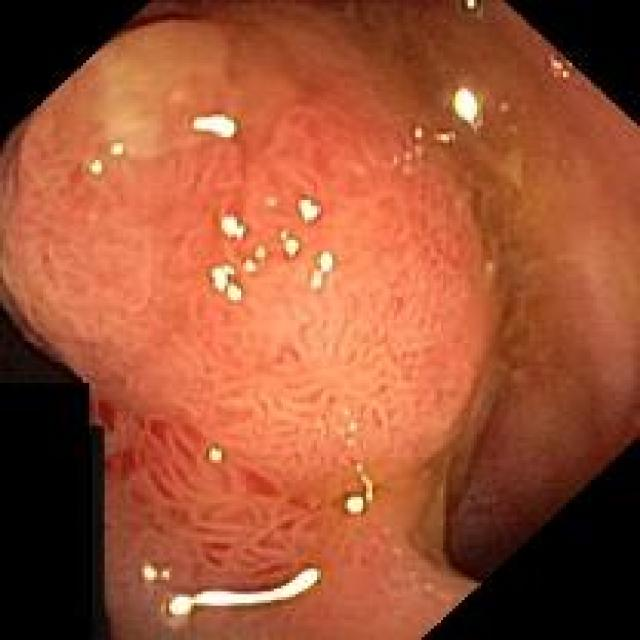Polyps: (3, 20, 497, 599)
